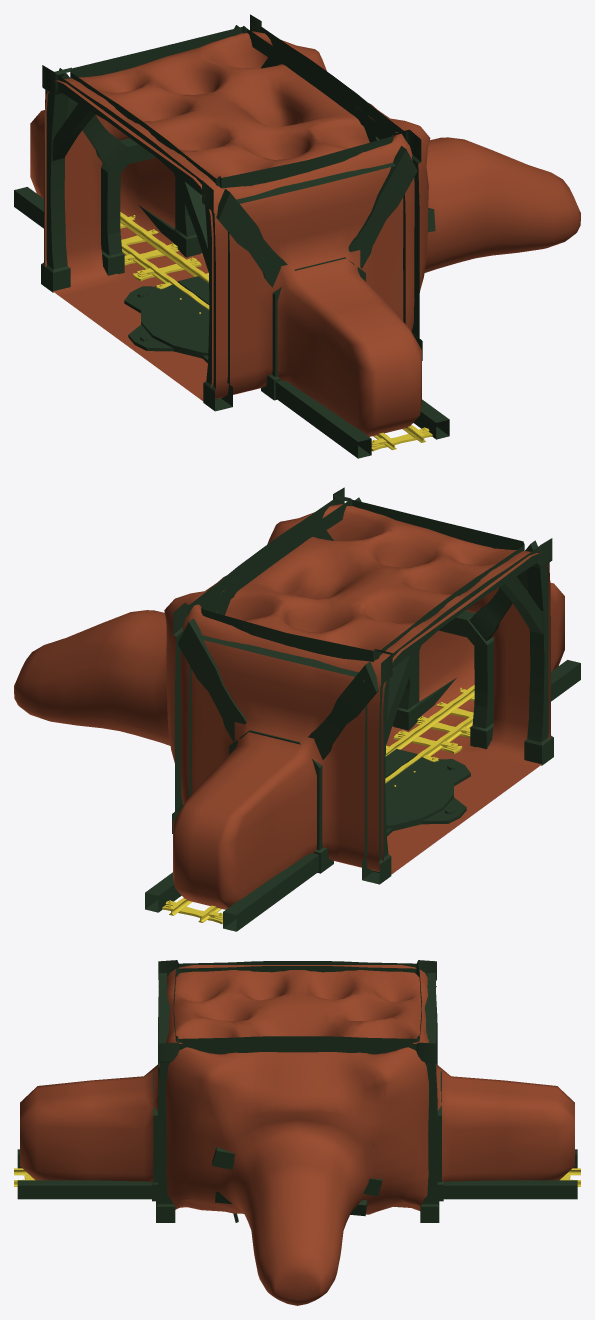
File: Rest Room.fbx
3 renders of one model, top to bottom at view 1: azimuth 30°, elevation 25°; view 2: azimuth 150°, elevation 25°; view 3: azimuth 270°, elevation 25°, orthographic. The views are drawn at different scales.
Visible parts, largest first — view 1: Plane004, Box007, Box008, Cylinder009, Tory_low001; view 2: Plane004, Box007, Box008, Cylinder009, Tory_low001; view 3: Plane004, Box007, Box012.
Part boxes in pixels (x1,y1,x2,y2): Plane004: (30,31,580,436); Box007: (14,14,449,458); Box008: (58,25,417,287); Cylinder009: (124,276,209,363); Tory_low001: (120,212,432,451); Plane004: (14,504,564,909); Box007: (145,487,580,931); Box008: (177,497,537,759); Cylinder009: (385,749,470,836); Tory_low001: (162,685,474,924); Plane004: (20,965,574,1305); Box007: (17,960,577,1222); Box012: (212,1146,382,1196).
Size of the model in its own units: 1792 by 946 by 2458.
